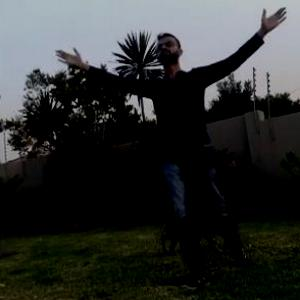takeoff: (95, 41, 288, 258)
